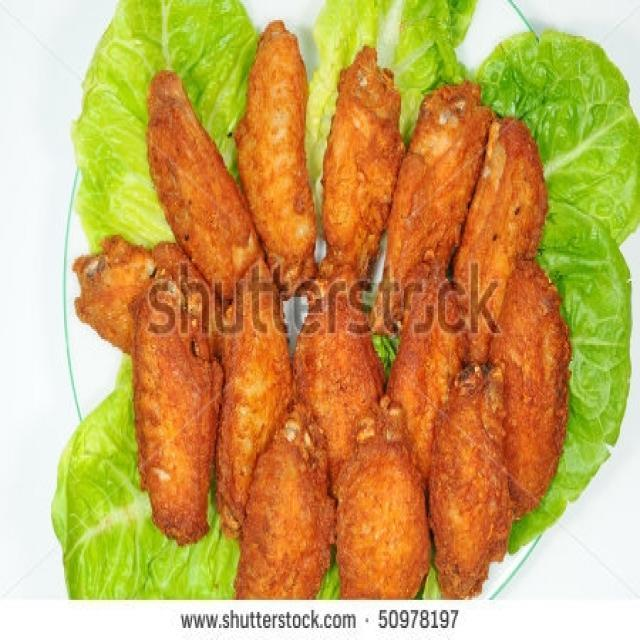Deep fried chicken wing: (100, 56, 556, 582)
